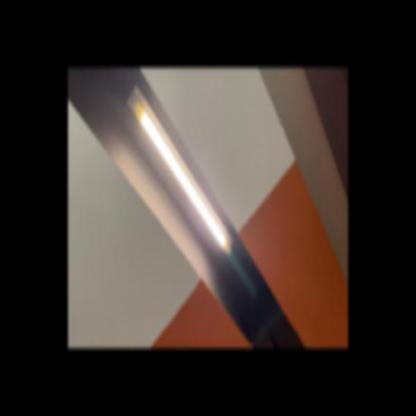light_on: (121, 82, 242, 278)
